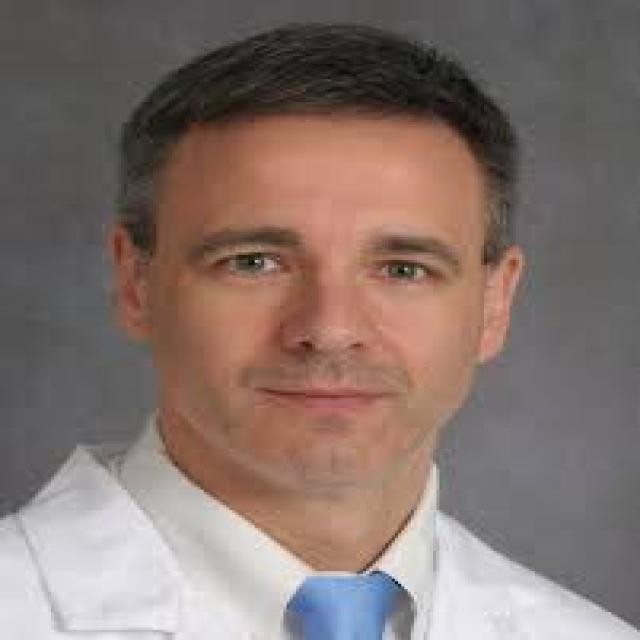normal_face: (121, 69, 509, 489)
